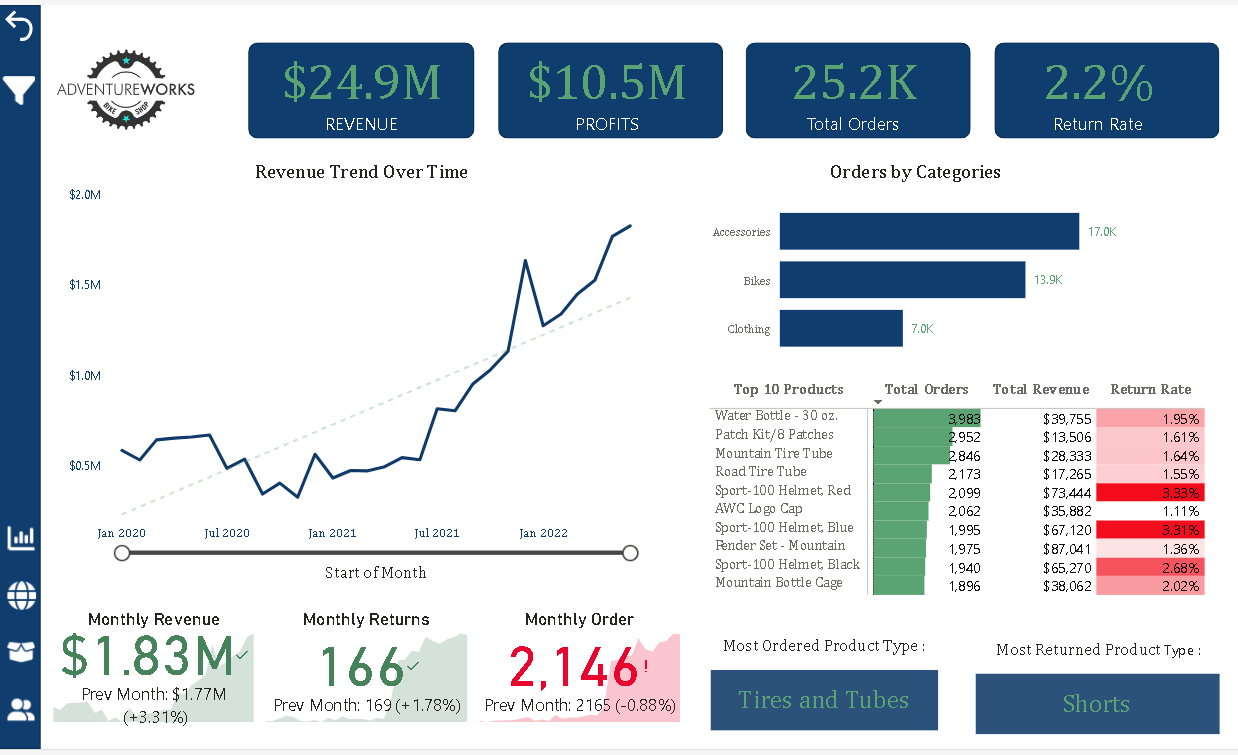

This screenshot's page, from the dashboard's own definition file:
{"tool":"powerbi","page":{"name":"Executive Dashboard","canvas":[1280,720],"ordinal":0},"visuals":[{"type":"shape","title":"Left Nav bar","box":[0,0,42.1,720],"z":0,"group":"g6"},{"type":"card","fields":{"Values":["Measure Table.Total Orders"]},"box":[707.3,13.4,242,138.1],"z":0,"group":"g3"},{"type":"group","id":"g1","title":"KPI GROUP","box":[243.2,36.6,940,92.9],"z":0,"group":"g2"},{"type":"shape","box":[243.2,36.6,218.8,92.9],"z":0,"group":"g1"},{"type":"image","box":[31.8,36.7,187,91.7],"z":0},{"type":"actionButton","box":[3.6,378.9,34.7,37.9],"z":0,"group":"g5"},{"type":"actionButton","box":[6.7,496.8,34.7,37.9],"z":0,"group":"g4"},{"type":"group","id":"g2","title":"KPI GROUPS","box":[232.2,13.4,954.7,138.1],"z":1000},{"type":"group","id":"g3","title":"KPI VALUES","box":[232.2,13.4,954.7,138.1],"z":1000,"group":"g2"},{"type":"card","fields":{"Values":["Measure Table.Return Rate"]},"box":[944.9,13.4,242,138.1],"z":1000,"group":"g3"},{"type":"shape","box":[965.6,36.6,217.6,92.9],"z":1000,"group":"g1"},{"type":"group","id":"g4","title":"Group 1","box":[6.2,496.8,35.8,203.2],"z":1000,"group":"g6"},{"type":"actionButton","box":[3.6,544.2,34.7,37.9],"z":1000,"group":"g5"},{"type":"actionButton","box":[6.7,662.1,34.7,37.9],"z":1000,"group":"g4"},{"type":"card","fields":{"Values":["Measure Table.Total Profit"]},"box":[469.8,13.4,242,138.1],"z":2000,"group":"g3"},{"type":"shape","box":[725.2,36.6,217.6,92.9],"z":2000,"group":"g1"},{"type":"actionButton","box":[0,63.3,42.2,39.7],"z":2000,"group":"g6"},{"type":"lineChart","title":"Revenue Trend Over Time","fields":{"Y":["Measure Table.Total Revenue"],"Category":["Calendar Lookup.Year","Calendar Lookup.Start of Quarter","Calendar Lookup.Start of Month"]},"box":[64,151.2,577.9,410.5],"z":2000},{"type":"actionButton","box":[3.6,489.1,34.7,37.9],"z":2000,"group":"g5"},{"type":"actionButton","box":[6.7,607,34.7,37.9],"z":2000,"group":"g4"},{"type":"card","fields":{"Values":["Measure Table.Total Revenue"]},"box":[232.2,13.4,242,138.1],"z":3000,"group":"g3"},{"type":"shape","box":[484.8,36.6,217.6,92.9],"z":3000,"group":"g1"},{"type":"actionButton","box":[3.1,434,35.8,37.9],"z":3000,"group":"g5"},{"type":"actionButton","box":[6.2,551.9,35.8,37.9],"z":3000,"group":"g4"},{"type":"kpi","title":"Monthly Revenue","fields":{"Indicator":["Measure Table.Total Revenue"],"TrendLine":["Calendar Lookup.Start of Month"],"Goal":["Measure Table.Previous Month Revenue"]},"box":[50.1,584.3,204.1,114.9],"z":3000},{"type":"kpi","title":"Monthly Order","fields":{"TrendLine":["Calendar Lookup.Start of Month"],"Indicator":["Measure Table.Total Orders"],"Goal":["Measure Table.Previous Month Orders"]},"box":[462.1,584.3,204.1,114.9],"z":4000},{"type":"kpi","title":"Monthly Returns","fields":{"TrendLine":["Calendar Lookup.Start of Month"],"Goal":["Measure Table.Previous Month Returns"],"Indicator":["Measure Table.Total Returns"]},"box":[255.5,584.3,205.4,114.9],"z":5000},{"type":"barChart","title":"Orders by Categories ","fields":{"Category":["Product Categories Lookup.CategoryName"],"Y":["Measure Table.Total Orders"]},"box":[673.5,151.6,430.3,205.4],"z":6000},{"type":"pivotTable","fields":{"Rows":["Product Lookup.ProductName"],"Values":["Measure Table.Total Orders","Measure Table.Total Revenue","Measure Table.Return Rate"]},"box":[684.5,360.6,498.7,231],"z":7000},{"type":"textbox","box":[690.2,605.8,220,37.9],"z":8000},{"type":"card","fields":{"Values":["Min(Product Subcategories Lookup.SubcategoryName)"]},"box":[690.2,643.7,220,58.7],"z":9000},{"type":"textbox","box":[947.6,610,238.4,36.7],"z":10000},{"type":"card","fields":{"Values":["Min(Product Subcategories Lookup.SubcategoryName)"]},"box":[947.4,646.6,235.9,58.7],"z":11000},{"type":"actionButton","box":[0.5,0,25,36],"z":12000},{"type":"group","id":"g5","title":"Group 1","box":[3.1,378.9,35.8,203.2],"z":13000},{"type":"group","id":"g6","title":"Group 2","box":[0,0,42.2,720],"z":14000},{"type":"actionButton","box":[0,0,42.2,39.7],"z":15000}]}

Visuals, with their boxes on the page's 1280x720 design canvas (x1, y1, x2, y2). These are canvas units, not pixel positions in the 1238x755 screenshot, which may show the page scaled, cropped or inside an application window:
"Left Nav bar" shape: box(0, 0, 42, 720)
card - Measure Table.Total Orders: box(707, 13, 949, 152)
"KPI GROUP" group: box(243, 37, 1183, 130)
shape: box(243, 37, 462, 130)
image: box(32, 37, 219, 128)
actionButton: box(4, 379, 38, 417)
actionButton: box(7, 497, 41, 535)
"KPI GROUPS" group: box(232, 13, 1187, 152)
"KPI VALUES" group: box(232, 13, 1187, 152)
card - Measure Table.Return Rate: box(945, 13, 1187, 152)
shape: box(966, 37, 1183, 130)
"Group 1" group: box(6, 497, 42, 700)
actionButton: box(4, 544, 38, 582)
actionButton: box(7, 662, 41, 700)
card - Measure Table.Total Profit: box(470, 13, 712, 152)
shape: box(725, 37, 943, 130)
actionButton: box(0, 63, 42, 103)
"Revenue Trend Over Time" lineChart: box(64, 151, 642, 562)
actionButton: box(4, 489, 38, 527)
actionButton: box(7, 607, 41, 645)
card - Measure Table.Total Revenue: box(232, 13, 474, 152)
shape: box(485, 37, 702, 130)
actionButton: box(3, 434, 39, 472)
actionButton: box(6, 552, 42, 590)
"Monthly Revenue" kpi: box(50, 584, 254, 699)
"Monthly Order" kpi: box(462, 584, 666, 699)
"Monthly Returns" kpi: box(256, 584, 461, 699)
"Orders by Categories " barChart: box(674, 152, 1104, 357)
pivotTable - Product Lookup.ProductName x Measure Table.Total Orders: box(684, 361, 1183, 592)
textbox: box(690, 606, 910, 644)
card - Min(Product Subcategories Lookup.SubcategoryName): box(690, 644, 910, 702)
textbox: box(948, 610, 1186, 647)
card - Min(Product Subcategories Lookup.SubcategoryName): box(947, 647, 1183, 705)
actionButton: box(0, 0, 26, 36)
"Group 1" group: box(3, 379, 39, 582)
"Group 2" group: box(0, 0, 42, 720)
actionButton: box(0, 0, 42, 40)
